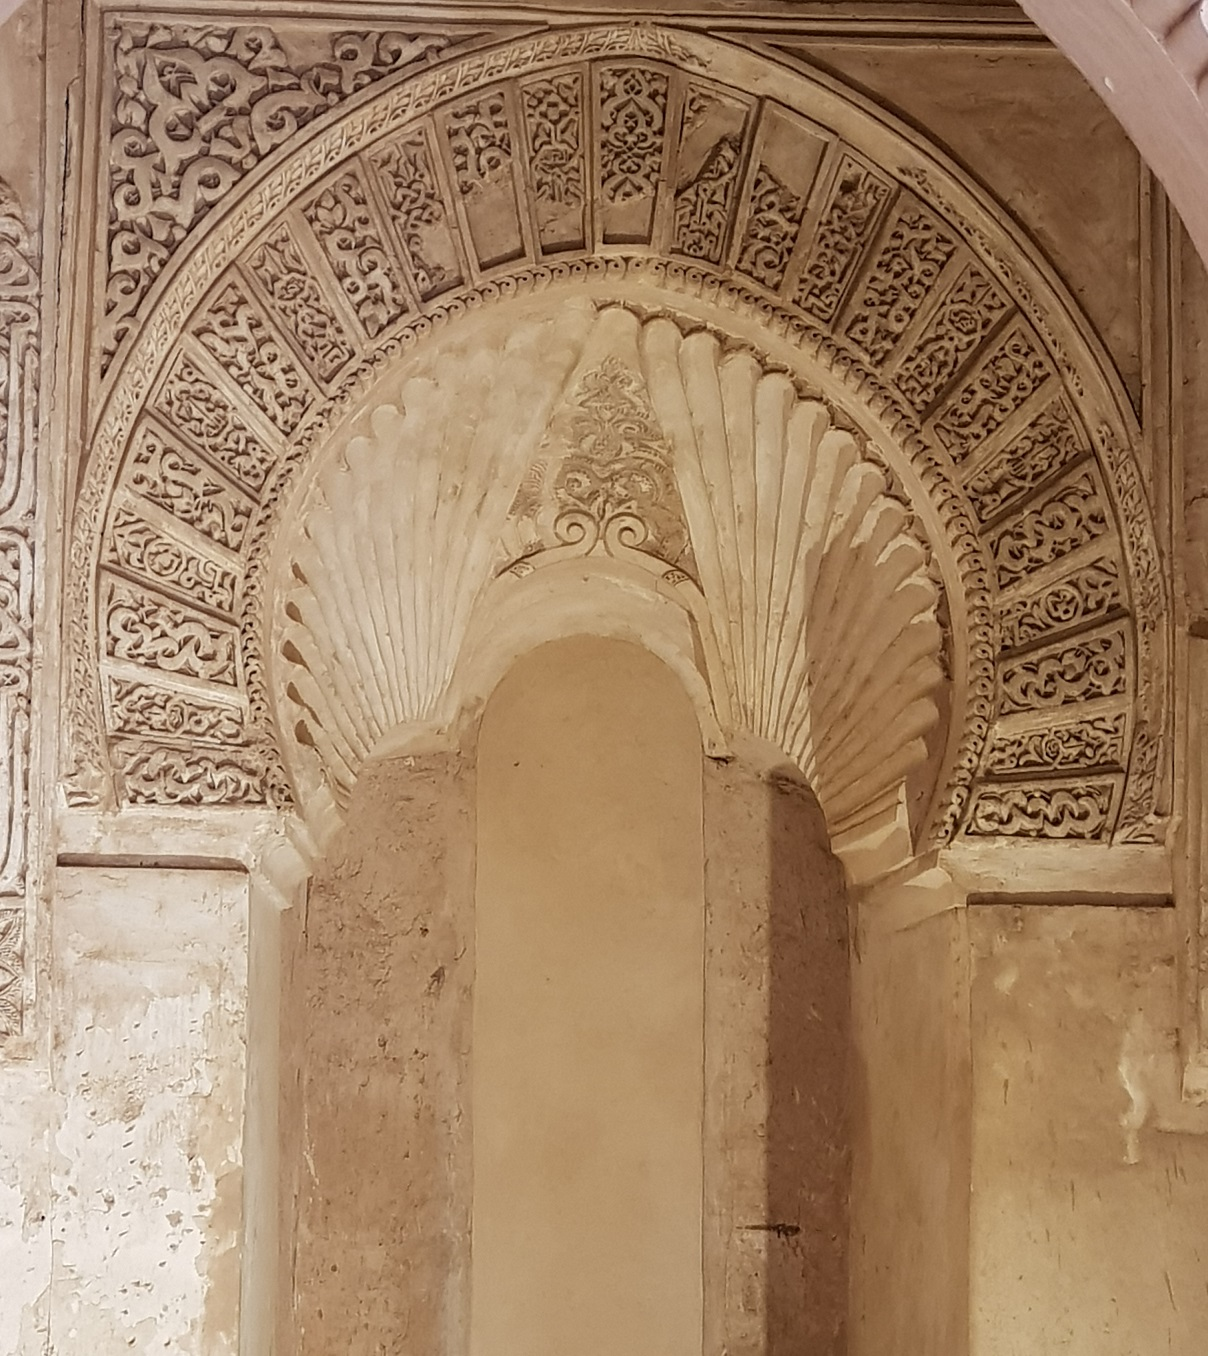arco-herradura: (189, 224, 1016, 958)
